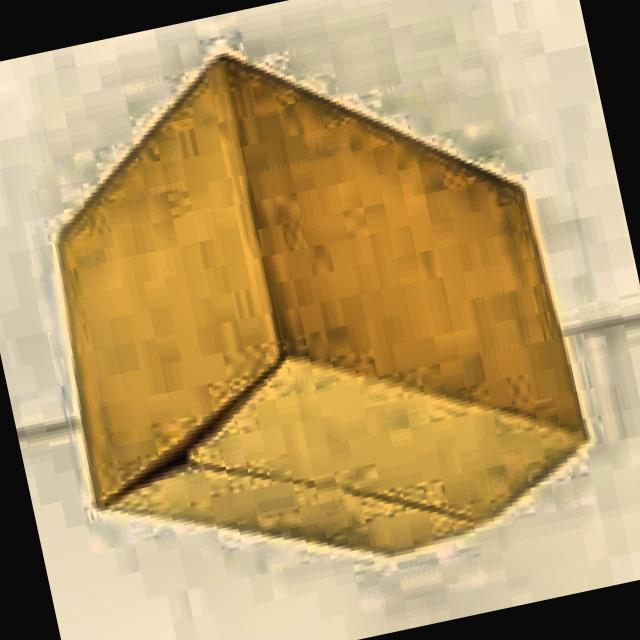cardboard: (5, 0, 605, 622)
